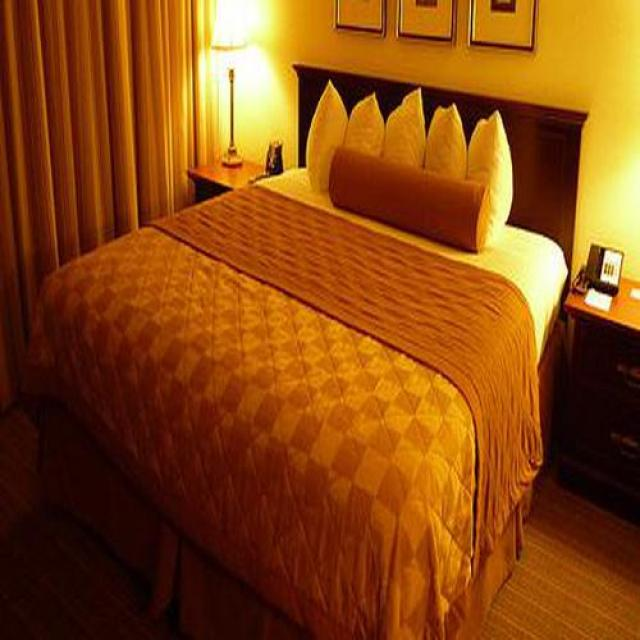bed: (24, 68, 584, 640)
